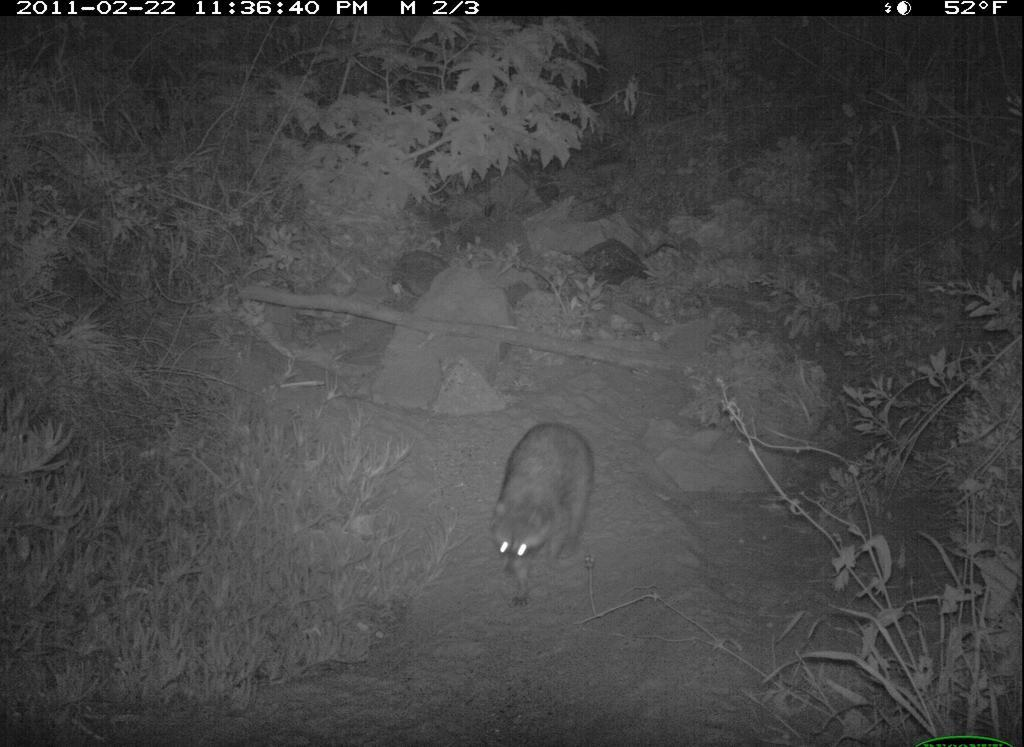raccoon: (475, 408, 614, 616)
